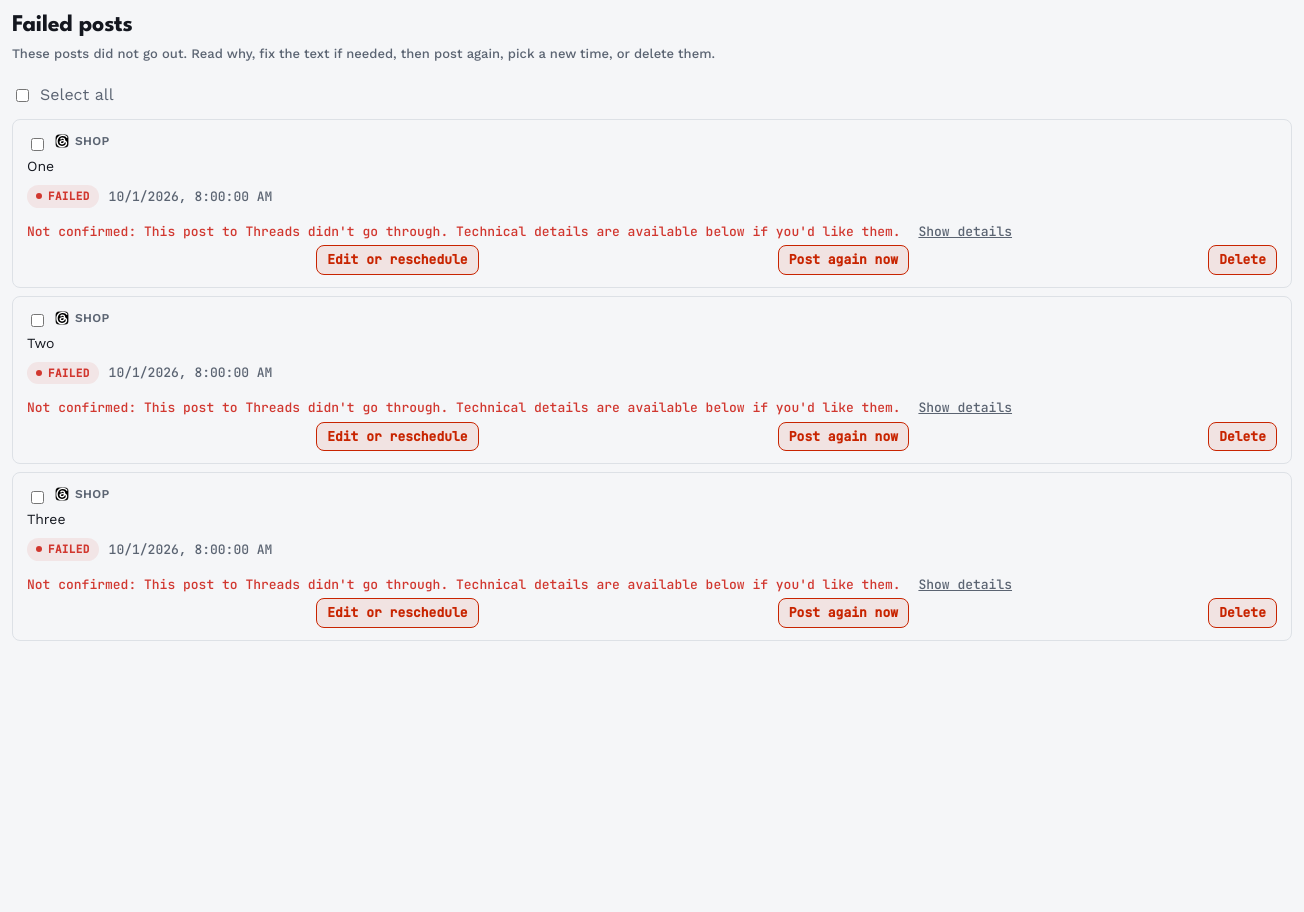
Test: FailedTab › bulk delete › keeps the posts it could not delete, selected, and says how many failed
The image size is (1304, 912).
Expected: the text "One" is shown, [27,158,54,174]
Step 1. Click the checkbox labelled "Select all" → click(22, 95), box [16,89,29,102]
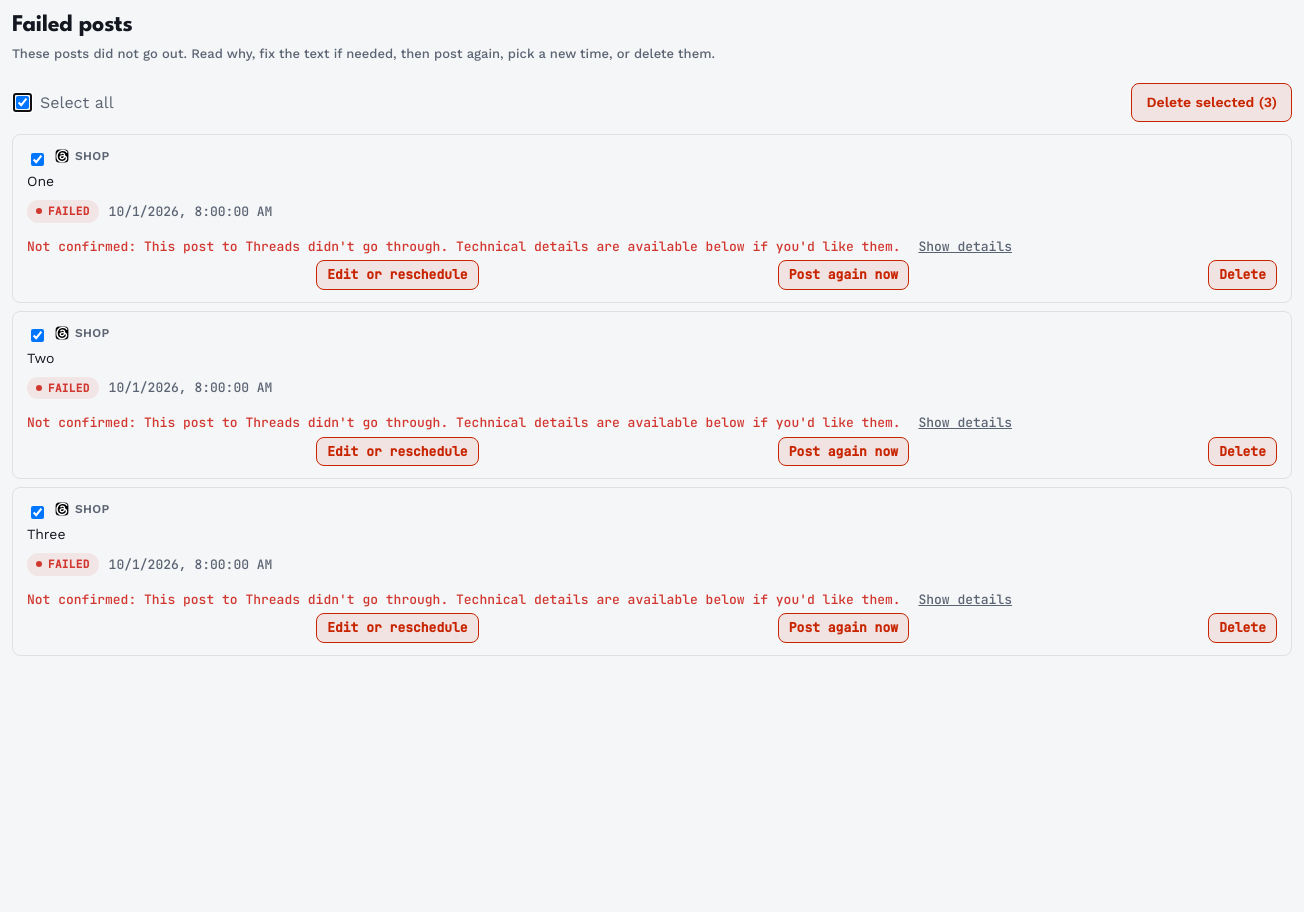
Step 2. Click the button "Delete selected (3)" → click(1212, 103), box [1132,83,1292,122]
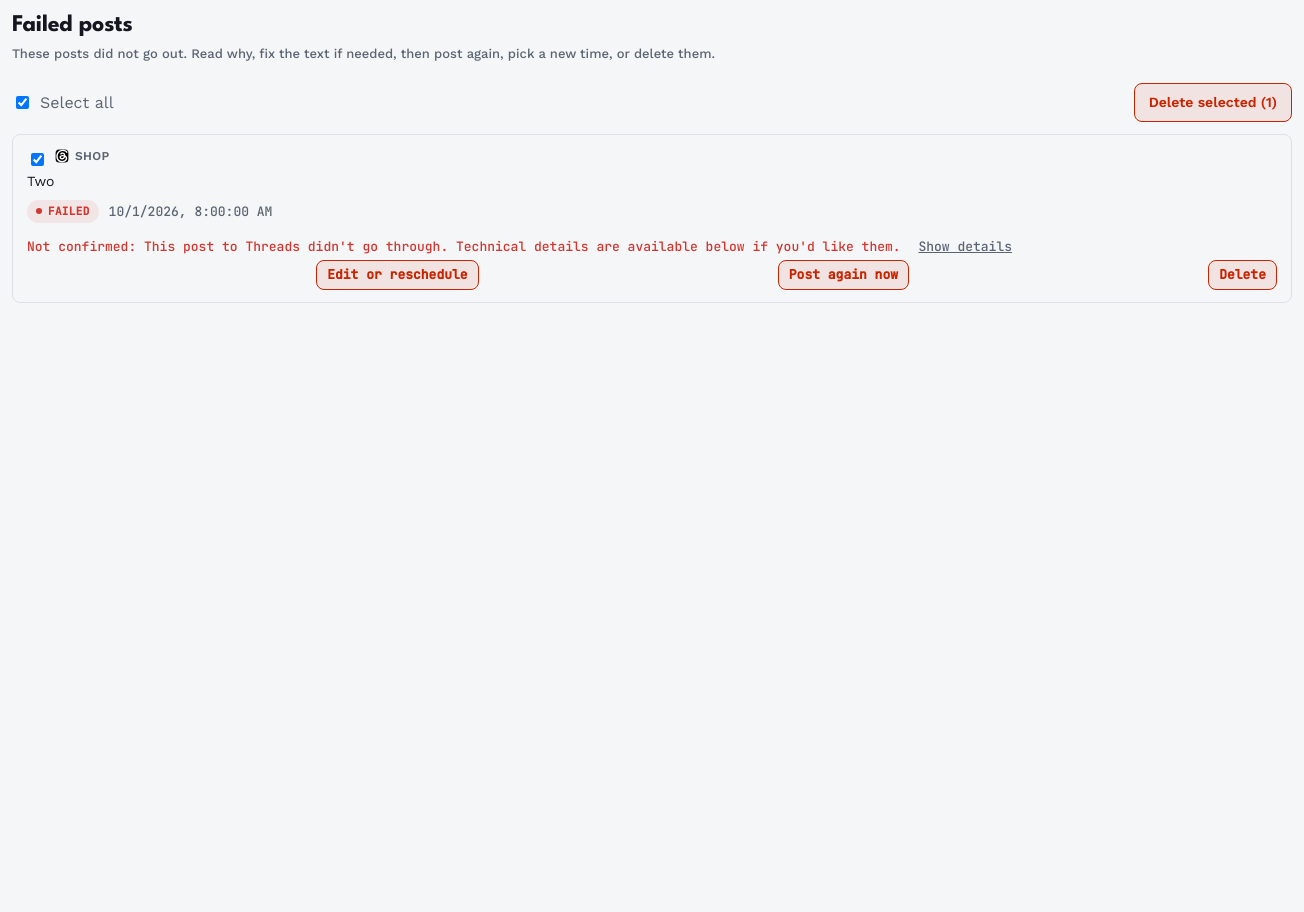
Expected: the text "Two" is shown, [27,173,54,189]
Expected: the text "One" is gone
Expected: the button "Delete selected (1)" is shown, [1134,83,1292,122]
